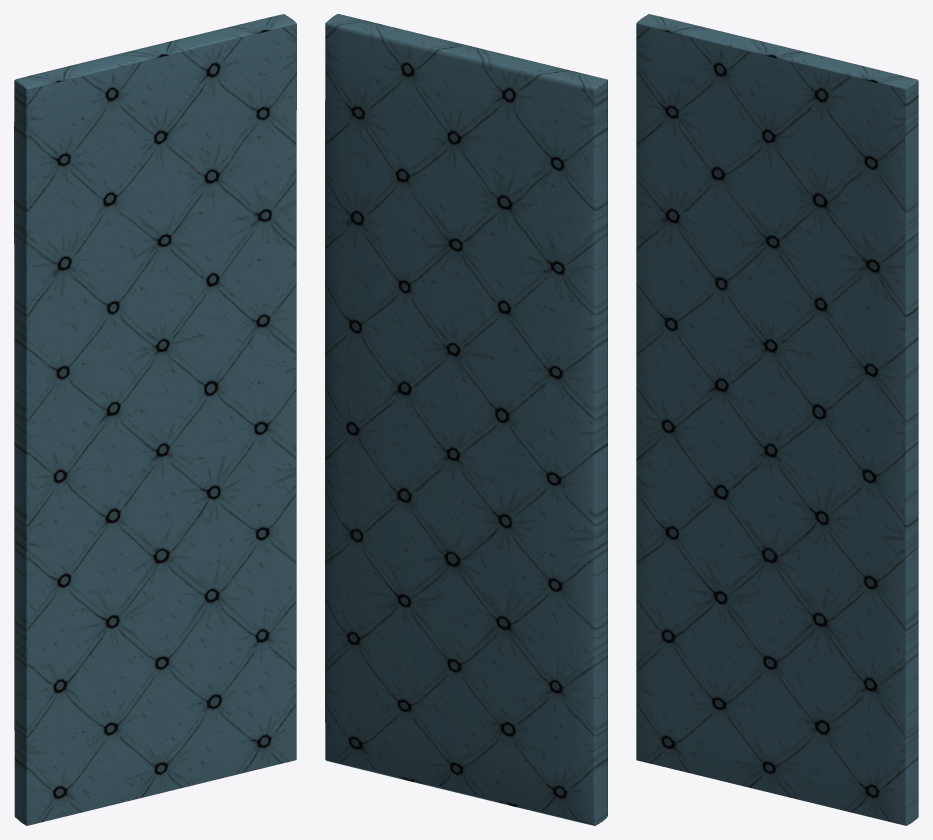
File: Wall_padded.fbx
The picture shows the model from 3 angles, left to right: view 1: azimuth 30°, elevation 25°; view 2: azimuth 150°, elevation 25°; view 3: azimuth 330°, elevation 25°; orthographic projection.
Visible parts, largest first — view 1: pCube1; view 2: pCube1; view 3: pCube1.
Boxes of the visible parts, left/top/right/bottom form: pCube1: left=14, top=14, right=296, bottom=825; pCube1: left=325, top=14, right=607, bottom=825; pCube1: left=636, top=14, right=918, bottom=825.
Size of the model in its own units: 1 by 2.6 by 0.1321.
